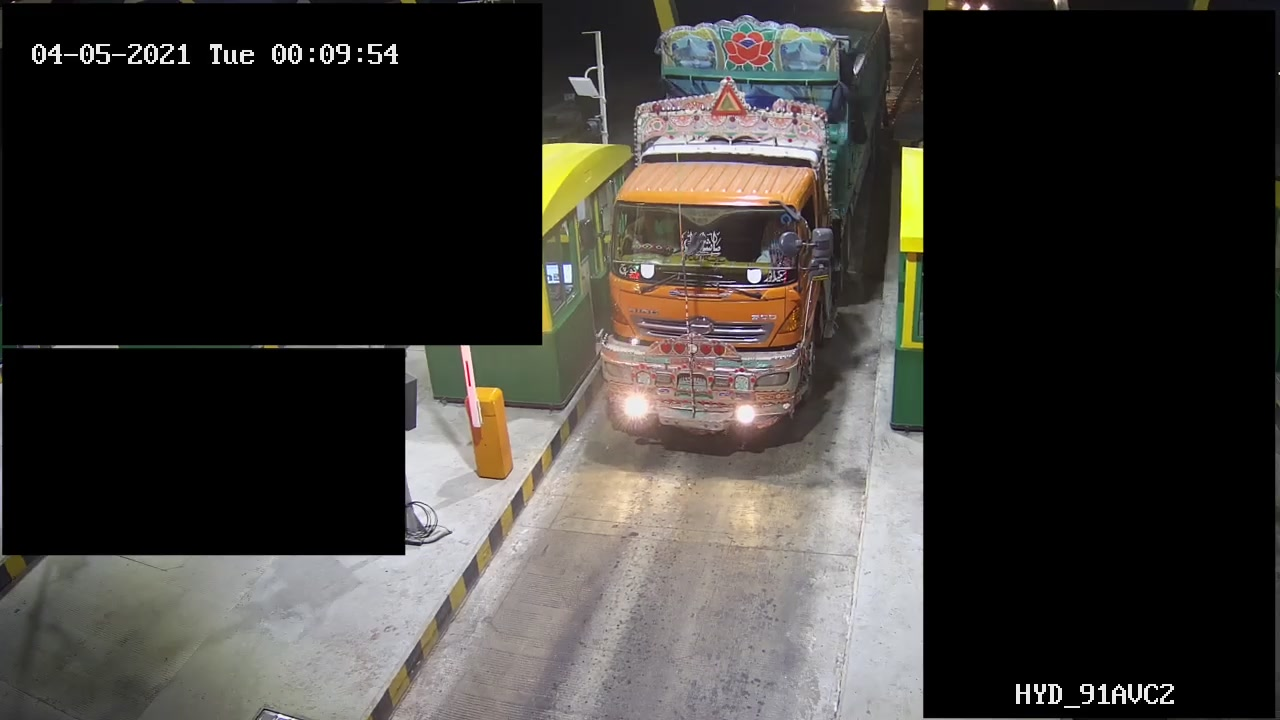F6: (585, 7, 900, 453)
